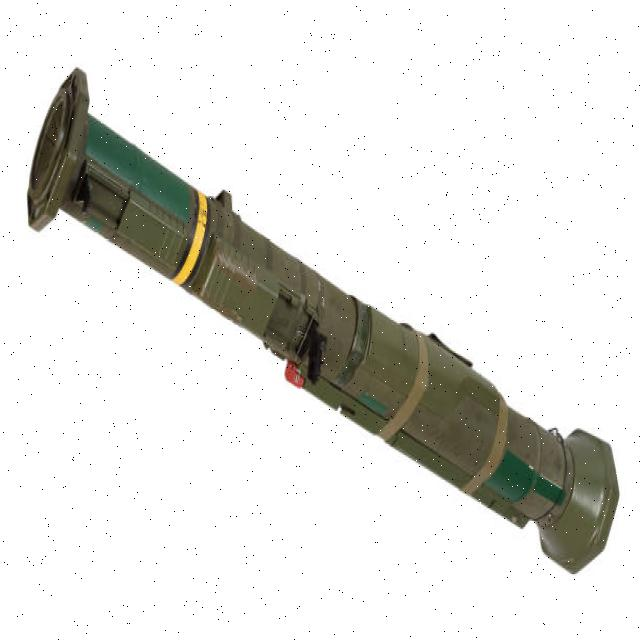bazooka: (21, 68, 623, 582)
